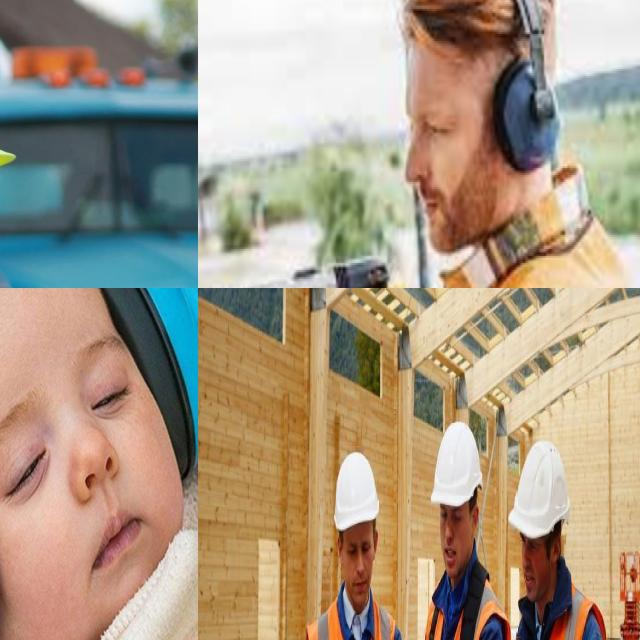Ear-protection: (391, 0, 573, 262), (75, 288, 198, 485)
No_Glasses: (0, 332, 146, 505)
face_nomask: (337, 522, 381, 611), (439, 497, 476, 577), (519, 522, 554, 606)
head_helmet: (507, 438, 572, 544), (430, 418, 484, 510), (333, 450, 379, 532)
person: (344, 0, 639, 288), (0, 62, 115, 288), (308, 448, 419, 640), (418, 417, 506, 640), (514, 441, 608, 640)
vest: (424, 559, 513, 640), (511, 575, 610, 640), (305, 598, 394, 640)
